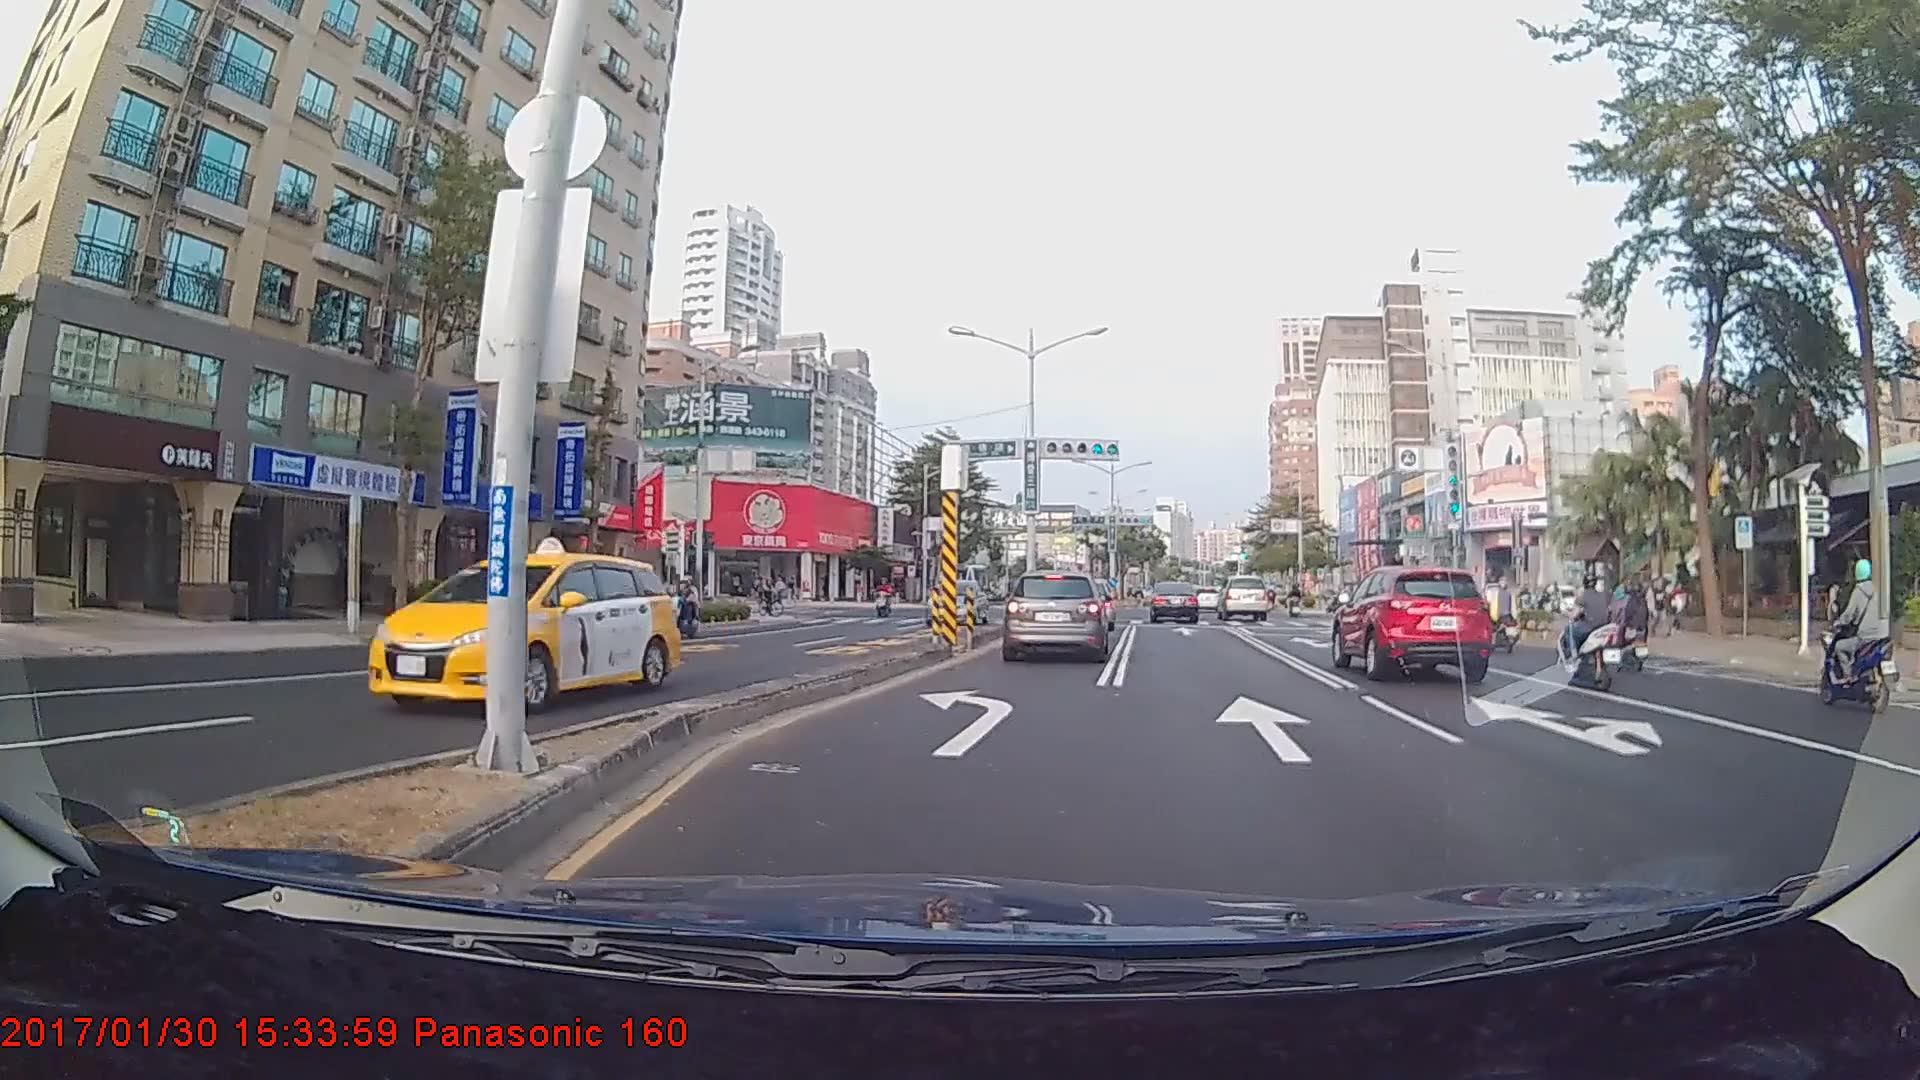pedestrian: (1648, 576, 1674, 640)
rider: (1808, 559, 1893, 723), (1555, 569, 1632, 690), (755, 576, 788, 617), (867, 576, 897, 620)
vehicle: (362, 554, 676, 711), (1333, 562, 1494, 681), (1003, 569, 1107, 662), (923, 579, 989, 625), (1215, 575, 1271, 622), (1148, 581, 1199, 624)
